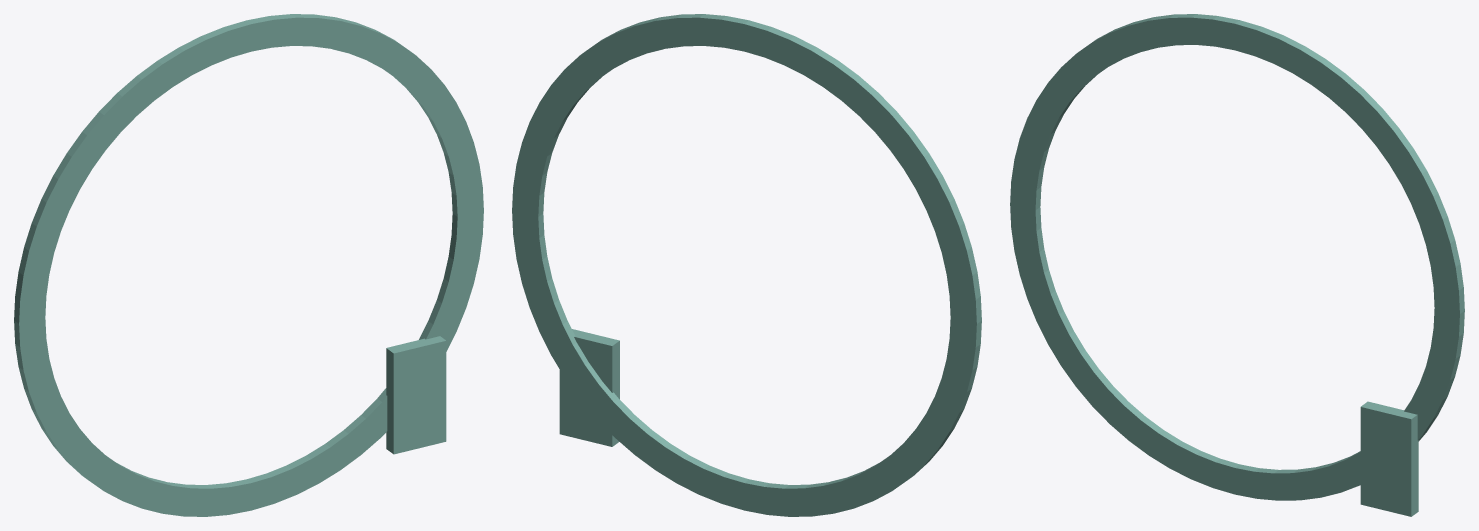
The model's file is ring_arrow.glb.
3 renders of one model, left to right at view 1: azimuth 30°, elevation 25°; view 2: azimuth 150°, elevation 25°; view 3: azimuth 330°, elevation 25°, orthographic. The views are drawn at different scales.
Visible parts, largest first — view 1: world; view 2: world; view 3: world.
Boxes of the visible parts, left/top/right/bottom form: world: left=14, top=14, right=483, bottom=516; world: left=512, top=14, right=981, bottom=516; world: left=1010, top=14, right=1464, bottom=516.
Size of the model in its own units: 0.106 by 0.106 by 0.0045.
